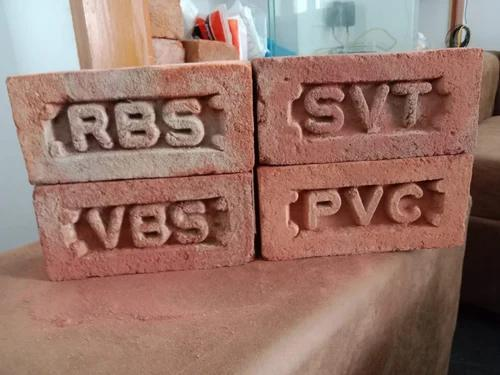brick: (8, 59, 252, 183), (258, 46, 481, 167), (32, 174, 253, 282), (262, 155, 473, 260)
